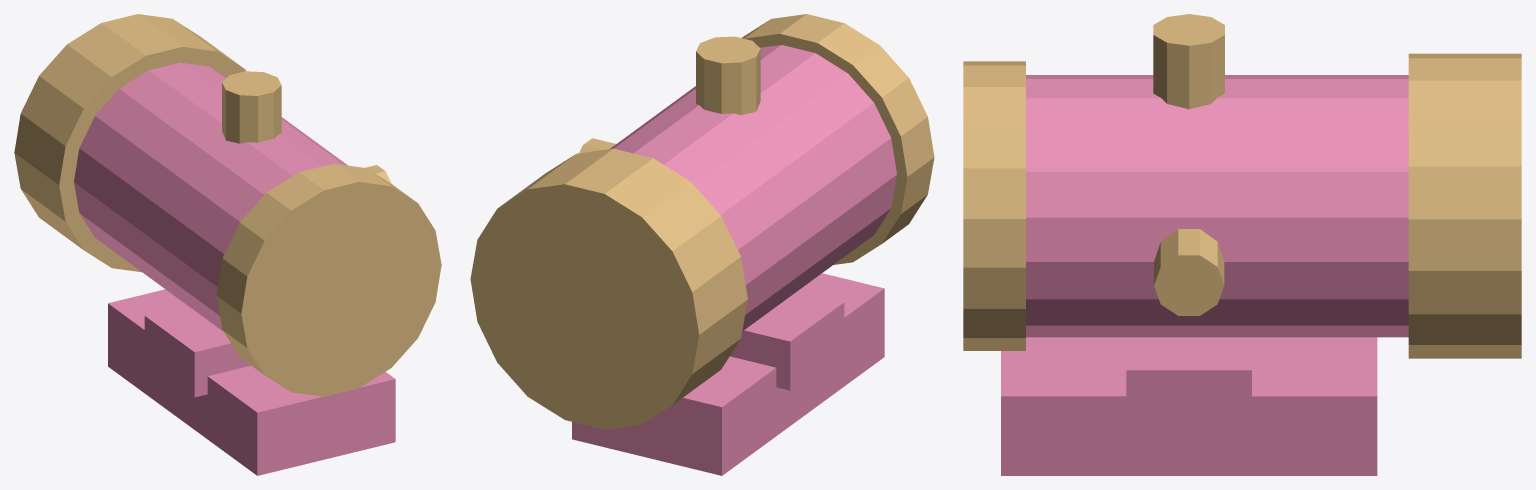
The model's file is RedDot.obj.
3 renders of one model, left to right at view 1: azimuth 30°, elevation 25°; view 2: azimuth 150°, elevation 25°; view 3: azimuth 270°, elevation 25°, orthographic. The views are drawn at different scales.
Parts seen in each view (by area): view 1: RedDot_Detail, RedDot_Body; view 2: RedDot_Detail, RedDot_Body; view 3: RedDot_Body, RedDot_Detail.
Part boxes in pixels (x1,y1,x2,y2): RedDot_Detail: (14,14,441,396); RedDot_Body: (74,62,395,475); RedDot_Detail: (470,14,934,429); RedDot_Body: (572,45,896,475); RedDot_Body: (1001,75,1408,475); RedDot_Detail: (963,14,1521,358).
Bounding box in the file's own units: 0.272 × 0.355 × 0.445.
